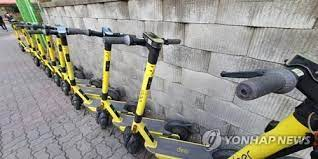kick_handler: (104, 32, 179, 58)
kick_neck: (138, 63, 154, 122), (60, 47, 75, 85), (45, 39, 55, 69), (103, 52, 109, 94)
kick_wheel: (125, 134, 140, 152), (70, 94, 82, 111), (97, 111, 107, 127)
